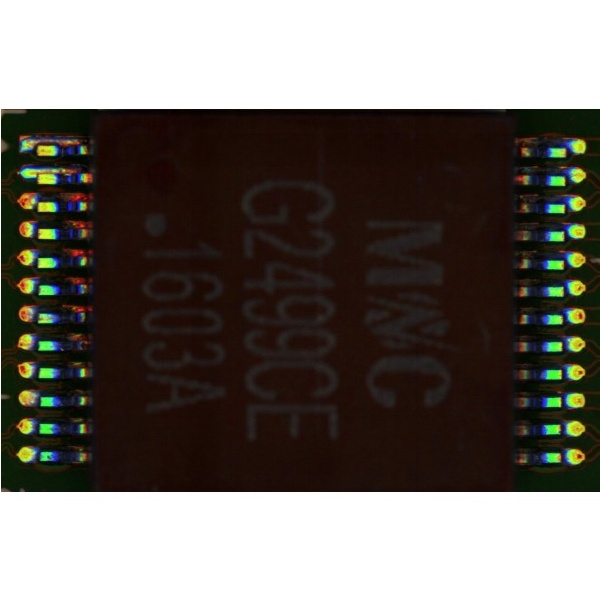Bad_qiaojiao: (36, 137, 80, 144), (36, 167, 73, 173)
